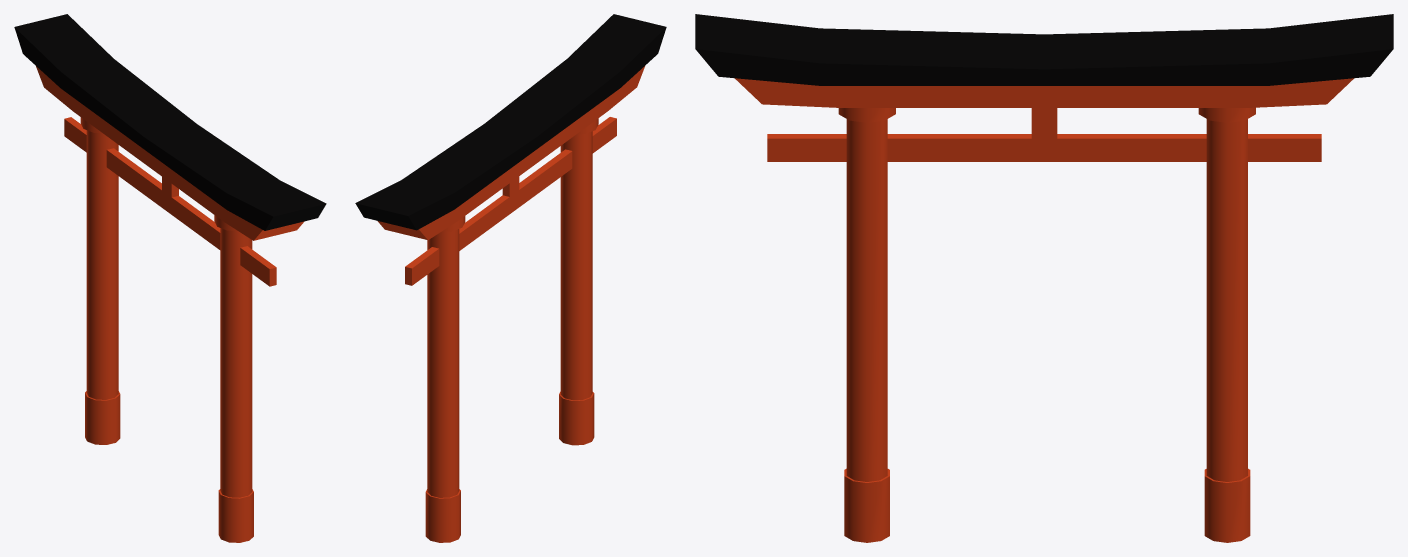
File: Torii_Gate_Textured 1.fbx
The picture shows the model from 3 angles, left to right: view 1: azimuth 30°, elevation 25°; view 2: azimuth 150°, elevation 25°; view 3: azimuth 270°, elevation 25°; orthographic projection. The views are drawn at different scales.
Parts seen in each view (by area): view 1: TGate; view 2: TGate; view 3: TGate.
Boxes of the visible parts, left/top/right/bottom form: TGate: left=14, top=14, right=326, bottom=542; TGate: left=355, top=14, right=666, bottom=542; TGate: left=695, top=14, right=1393, bottom=542.
Bounding box in the file's own units: 112 × 749 × 946.
Materials: 1 (1 with a texture image).
